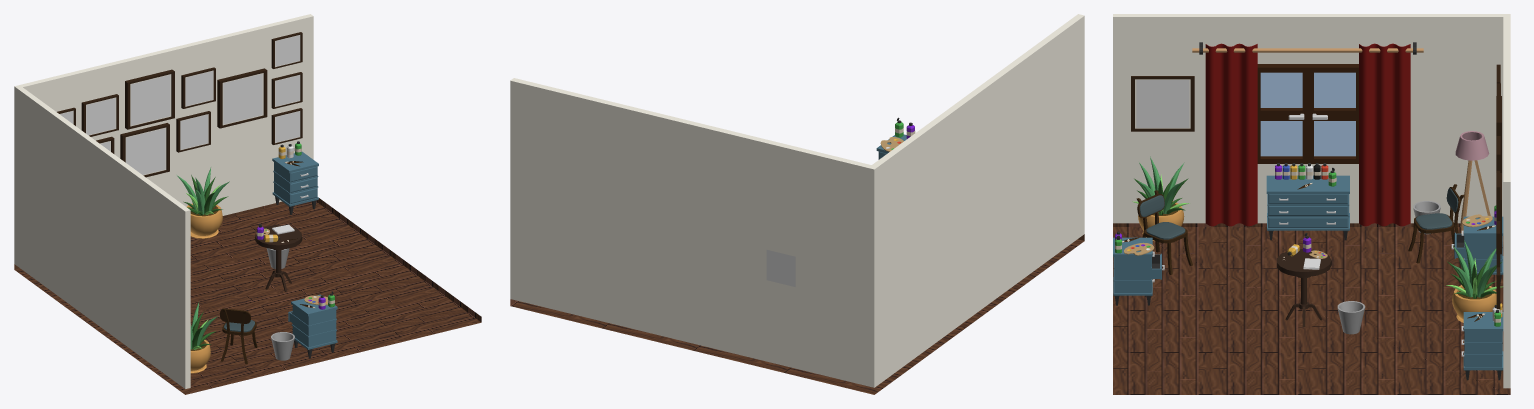
Rendered from studio.glb.
3 views of the same model, side by side, from view 1: azimuth 30°, elevation 25°; view 2: azimuth 150°, elevation 25°; view 3: azimuth 270°, elevation 25° (orthographic). The views are drawn at different scales.
Visible parts, largest first — view 1: Plane.001, Plane, Cube.048, Cube.001, a8, a4, a5, Cube.045, Cube.020, Cylinder.012, a2, Cube.043_tablo_0.002 (+14 smaller); view 2: Plane.001, Plane, art1, Cube.048; view 3: Plane, Plane.001, Cube.023, Cube.022, Cube.024, Cube.005, Cube.048, avatar, Cube.001, Cube.007, Cube.045, Cube.020 (+12 smaller).
Boxes of the visible parts, bbox=[...] form: Plane.001: bbox=[14, 14, 313, 388]; Plane: bbox=[14, 198, 481, 394]; Cube.048: bbox=[288, 291, 337, 358]; Cube.001: bbox=[272, 151, 318, 214]; a8: bbox=[223, 73, 262, 124]; a4: bbox=[131, 75, 170, 125]; a5: bbox=[126, 128, 165, 174]; Cube.045: bbox=[219, 308, 257, 364]; Cube.020: bbox=[190, 302, 217, 373]; Cylinder.012: bbox=[255, 225, 302, 291]; a2: bbox=[86, 98, 115, 135]; Cube.043_tablo_0.002: bbox=[217, 68, 267, 128]; Plane.001: bbox=[510, 14, 1084, 387]; Plane: bbox=[510, 234, 1084, 394]; art1: bbox=[766, 250, 795, 286]; Cube.048: bbox=[876, 117, 915, 159]; Plane: bbox=[1113, 223, 1510, 394]; Plane.001: bbox=[1113, 14, 1510, 388]; Cube.023: bbox=[1257, 64, 1358, 163]; Cube.022: bbox=[1205, 43, 1257, 226]; Cube.024: bbox=[1359, 43, 1410, 226]; Cube.005: bbox=[1266, 175, 1349, 240]; Cube.048: bbox=[1113, 231, 1164, 305]; avatar: bbox=[1136, 80, 1189, 127]; Cube.001: bbox=[1461, 312, 1503, 380]; Cube.007: bbox=[1451, 216, 1503, 283]; Cube.045: bbox=[1136, 190, 1192, 274]; Cube.020: bbox=[1132, 156, 1189, 241].
Bounding box in the file's own units: 3.76 × 2.22 × 3.85.
51 materials, 1 textured.
